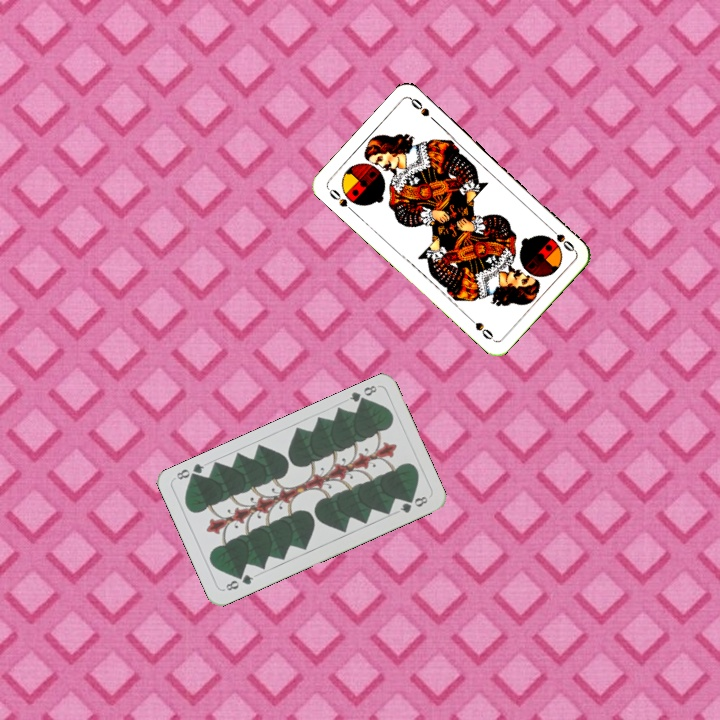G8: (345, 381, 379, 408), (221, 570, 256, 593)
SO: (545, 223, 578, 254), (324, 185, 357, 216)
